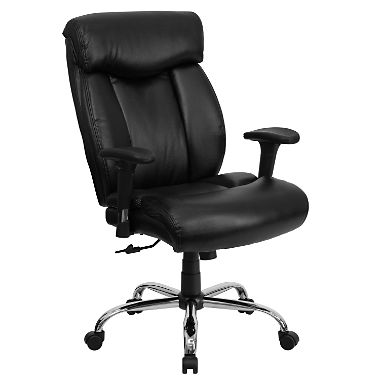chairs: (58, 12, 310, 377)
